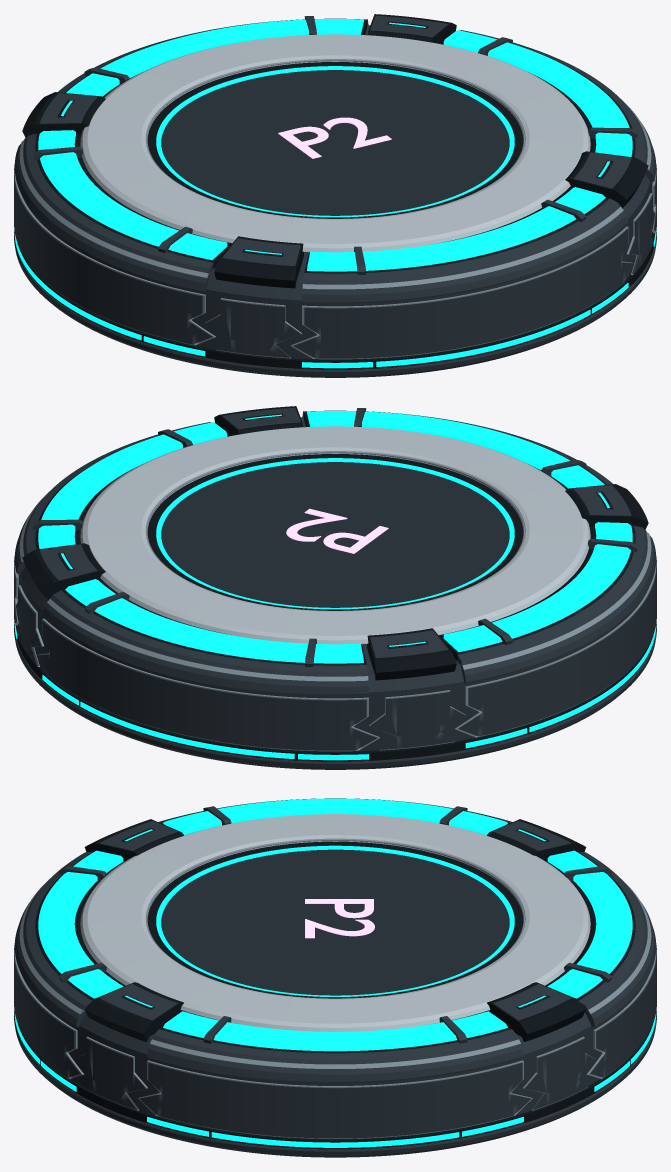
File: Bouncer.fbx
3 renders of one model, top to bottom at view 1: azimuth 30°, elevation 25°; view 2: azimuth 150°, elevation 25°; view 3: azimuth 270°, elevation 25°, orthographic.
Visible parts, largest first — view 1: SM_Puck_Bouncer_P2_HighDetail; view 2: SM_Puck_Bouncer_P2_HighDetail; view 3: SM_Puck_Bouncer_P2_HighDetail.
Boxes of the visible parts, x1,y1,x2,y2 form: SM_Puck_Bouncer_P2_HighDetail: [14, 14, 656, 377]; SM_Puck_Bouncer_P2_HighDetail: [14, 406, 656, 769]; SM_Puck_Bouncer_P2_HighDetail: [14, 798, 656, 1157].
Size of the model in its own units: 86.5 by 86.5 by 16.1.
